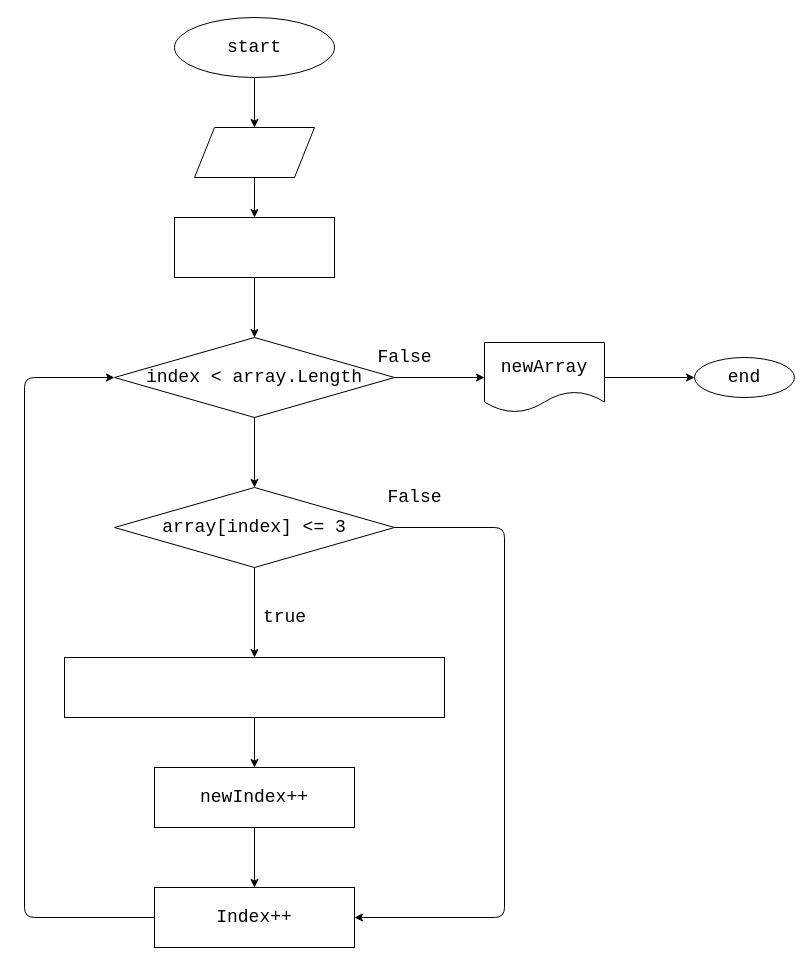
Image size: 812x965. Some labels were removed from this diagram. The centre of each missing label's shape, as x and y in pixels:
array[]: the point at 254,152
index = 0 newIndex = 0: the point at 254,247
newArray[newIndex] = array[index]: the point at 254,687
